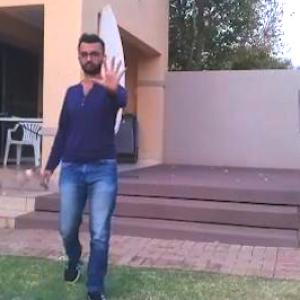follow_hand: (88, 51, 130, 96)
